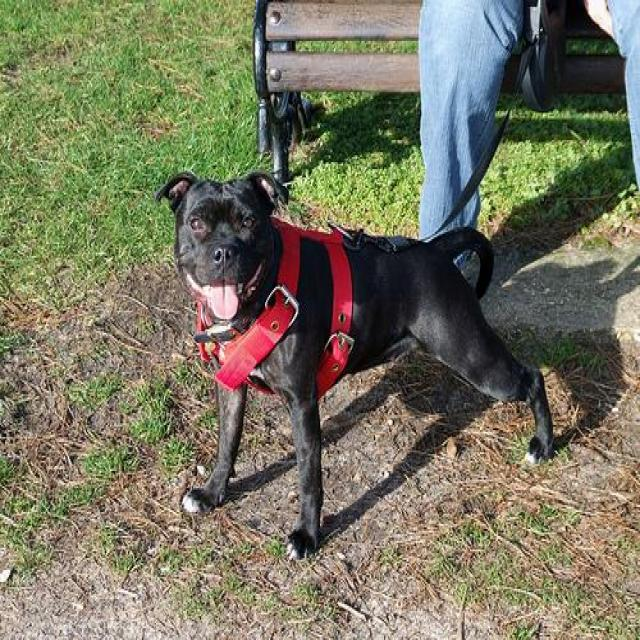staffordshire_bullterrier: (156, 171, 553, 558)
